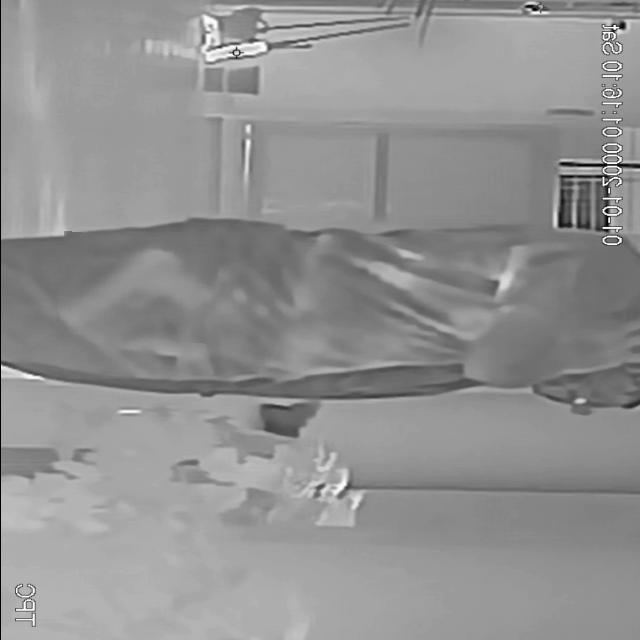Weapon: (57, 234, 218, 340)
